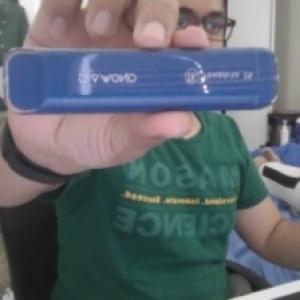Diamond-E-Ciggirate: (0, 44, 287, 119)
